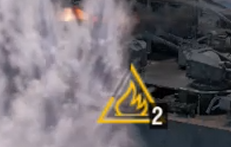2fire: (94, 89, 169, 130)
